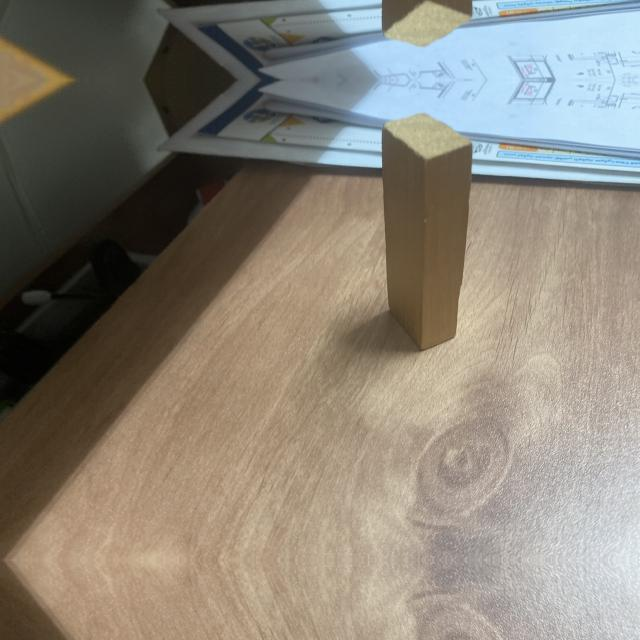jenga: (380, 114, 474, 352)
